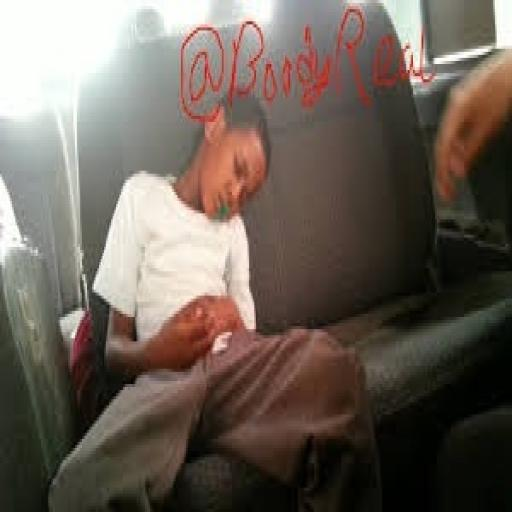sleeping: (61, 88, 379, 509)
